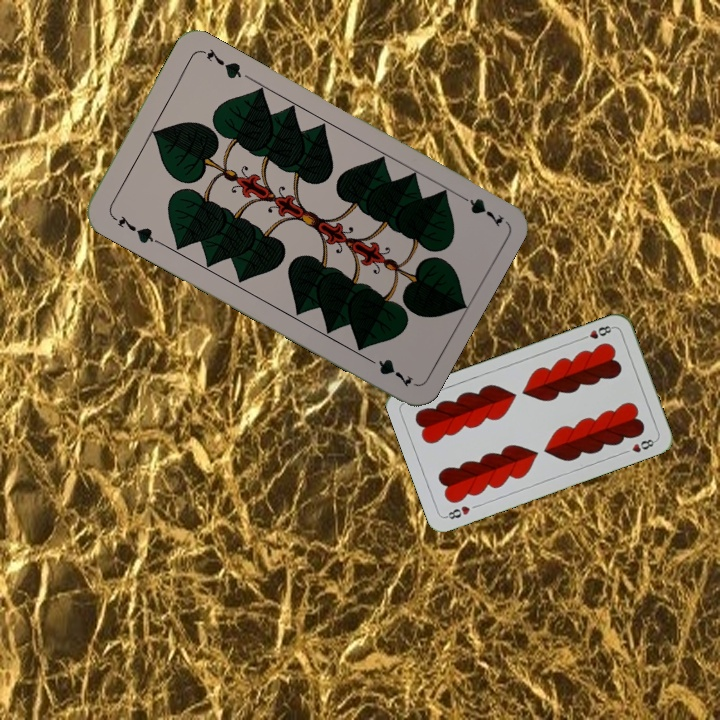G7: (452, 189, 506, 230), (107, 210, 161, 246)
H8: (577, 321, 616, 343), (441, 502, 473, 522)
